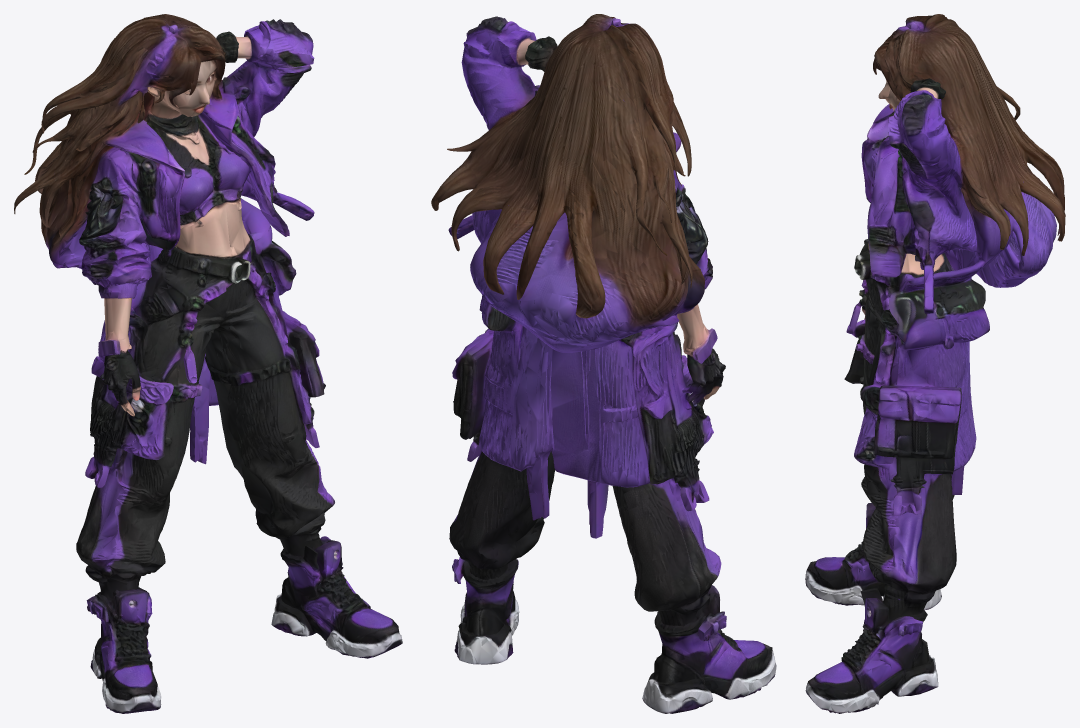
File: amara.glb
3 renders of one model, left to right at view 1: azimuth 30°, elevation 25°; view 2: azimuth 150°, elevation 25°; view 3: azimuth 270°, elevation 25°, orthographic. The views are drawn at different scales.
Visible parts, largest first — view 1: model; view 2: model; view 3: model.
Part boxes in pixels (<box>): model: <box>14,14,402,713</box>; model: <box>431,14,776,713</box>; model: <box>805,14,1065,713</box>.
Bounding box in the file's own units: 0.9232 × 1.89 × 0.7304.
1 material, 1 textured.
